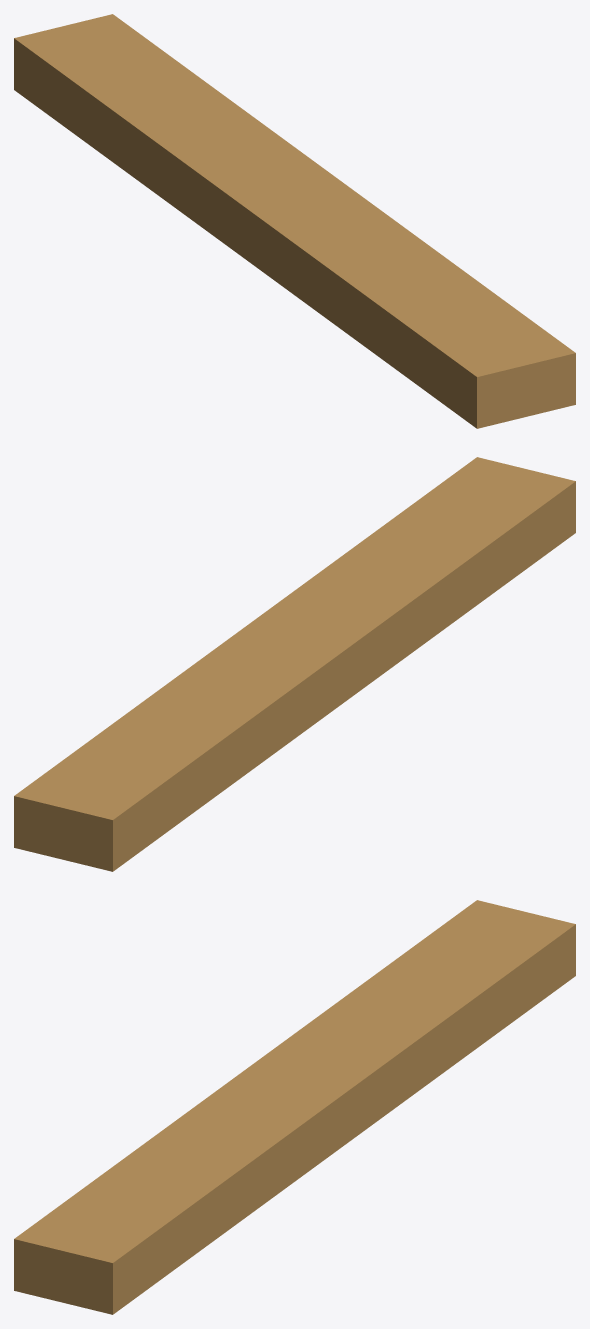
The picture shows the model from 3 angles, top to bottom: view 1: azimuth 30°, elevation 25°; view 2: azimuth 150°, elevation 25°; view 3: azimuth 330°, elevation 25°; orthographic projection.
Visible parts, largest first — view 1: RUN-080-S03-top_plate; view 2: RUN-080-S03-top_plate; view 3: RUN-080-S03-top_plate.
Part boxes in pixels (x1,y1,x2,y2): RUN-080-S03-top_plate: (14,14,575,428); RUN-080-S03-top_plate: (14,457,575,871); RUN-080-S03-top_plate: (14,900,575,1314).
Size of the model in its own units: 0.09 by 0.045 by 0.73.
